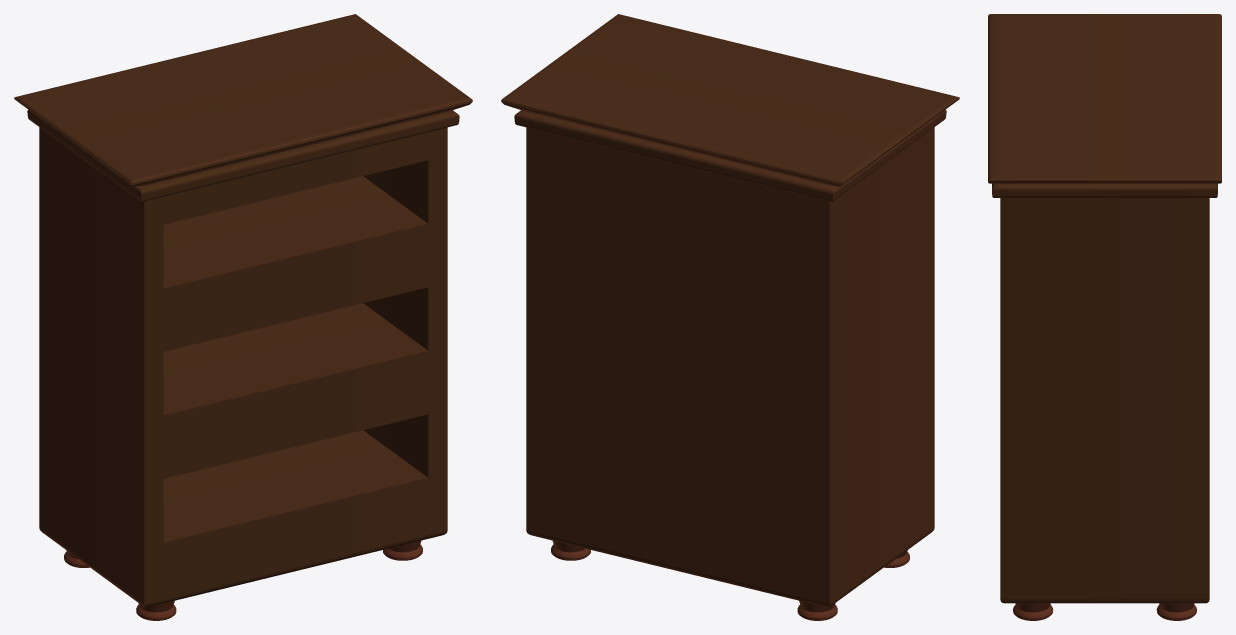
File: MOD_tabledechevetsanstiroir.fbx
3 renders of one model, left to right at view 1: azimuth 30°, elevation 25°; view 2: azimuth 150°, elevation 25°; view 3: azimuth 270°, elevation 25°, orthographic.
Parts seen in each view (by area): view 1: Base table de chevet; view 2: Base table de chevet; view 3: Base table de chevet.
Part boxes in pixels (x1=…): Base table de chevet: x1=14, y1=14, x2=472, y2=620; Base table de chevet: x1=501, y1=14, x2=959, y2=620; Base table de chevet: x1=988, y1=14, x2=1221, y2=620.
Size of the model in its own units: 0.8921 by 1.15 by 0.5317.
